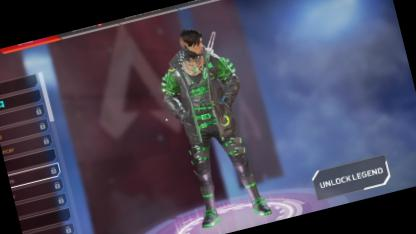Target: (146, 14, 268, 194)
